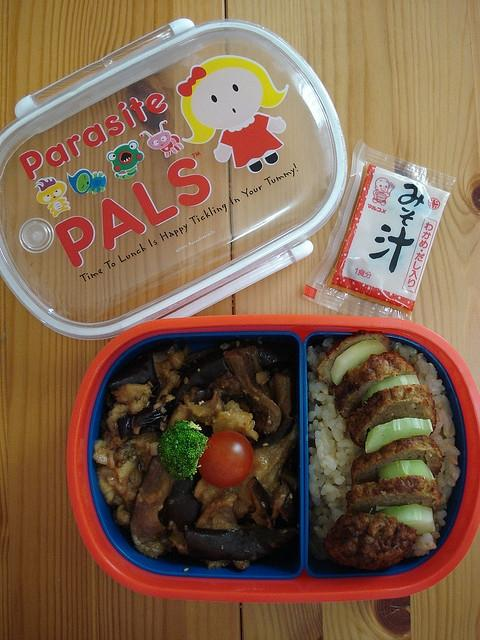broccoli: (156, 419, 210, 482)
mushroom: (129, 456, 185, 559), (224, 344, 283, 436), (185, 527, 299, 561), (170, 349, 228, 408), (108, 348, 161, 398), (163, 469, 202, 532), (263, 373, 293, 445), (195, 493, 241, 531), (155, 351, 185, 406), (247, 476, 275, 530), (270, 477, 298, 528), (134, 398, 180, 428), (280, 432, 300, 495), (256, 370, 269, 384), (132, 426, 142, 435)
tomato: (198, 429, 254, 488)
